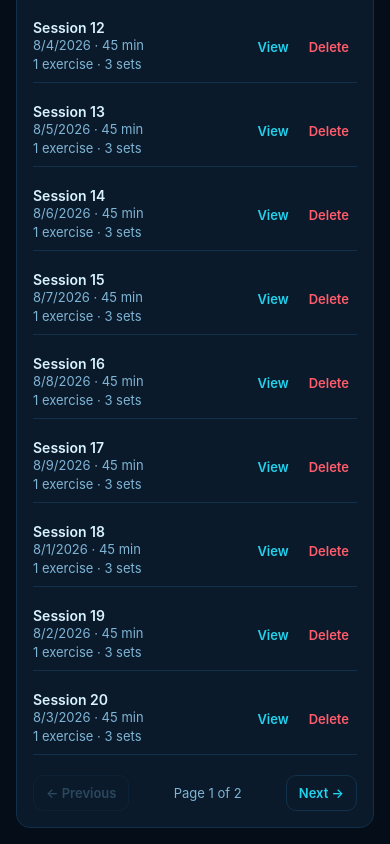
Test: moves between pages with the pager buttons
(page scrolled)
Expected: the text "Page 1 of 2" is shown, [174, 785, 242, 801]
Click the button "Next →" at (321, 793), box [286, 775, 357, 811]
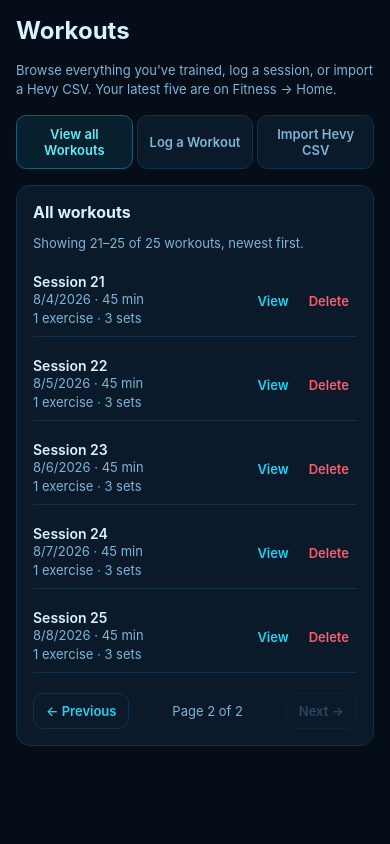
Expected: the text "Showing 21–25 of 25 workouts, newest first." is shown, [33, 235, 304, 251]
Expected: the text "Page 2 of 2" is shown, [172, 703, 243, 719]
Expected: the text "Session 21" is shown, [33, 273, 105, 290]
Click the button "← Previous" at (81, 711), box [33, 693, 129, 729]
(page scrolled)
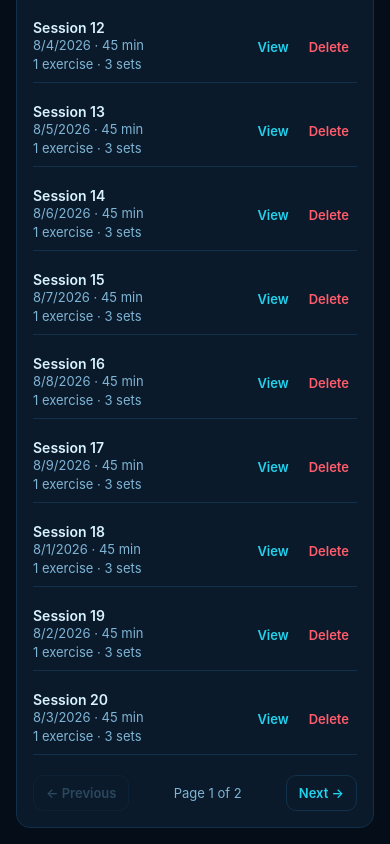
Expected: the text "Page 1 of 2" is shown, [174, 785, 242, 801]
Expected: the text "Session 20" is shown, [33, 691, 108, 708]
